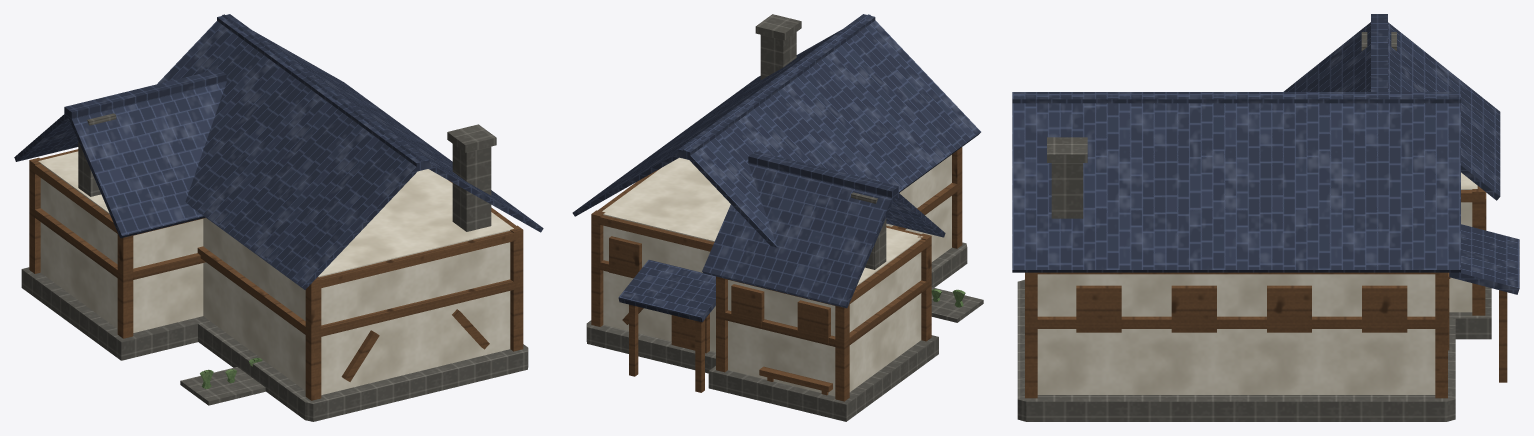
Rendered from hospital.gltf.
The picture shows the model from 3 angles, left to right: view 1: azimuth 30°, elevation 25°; view 2: azimuth 150°, elevation 25°; view 3: azimuth 270°, elevation 25°; orthographic projection. The views are drawn at different scales.
Visible parts, largest first — view 1: Hospital; view 2: Hospital; view 3: Hospital.
Part boxes in pixels (left/top/right/bottom): Hospital: left=14, top=14, right=543, bottom=421; Hospital: left=572, top=14, right=983, bottom=421; Hospital: left=1012, top=14, right=1519, bottom=421.
Size of the model in its own units: 3.83 by 2.78 by 4.8.
Materials: 11 (10 with a texture image).
